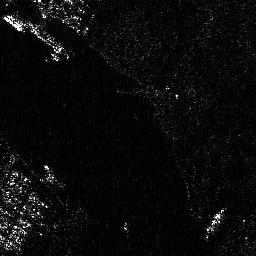ship: (29, 23, 71, 60)
